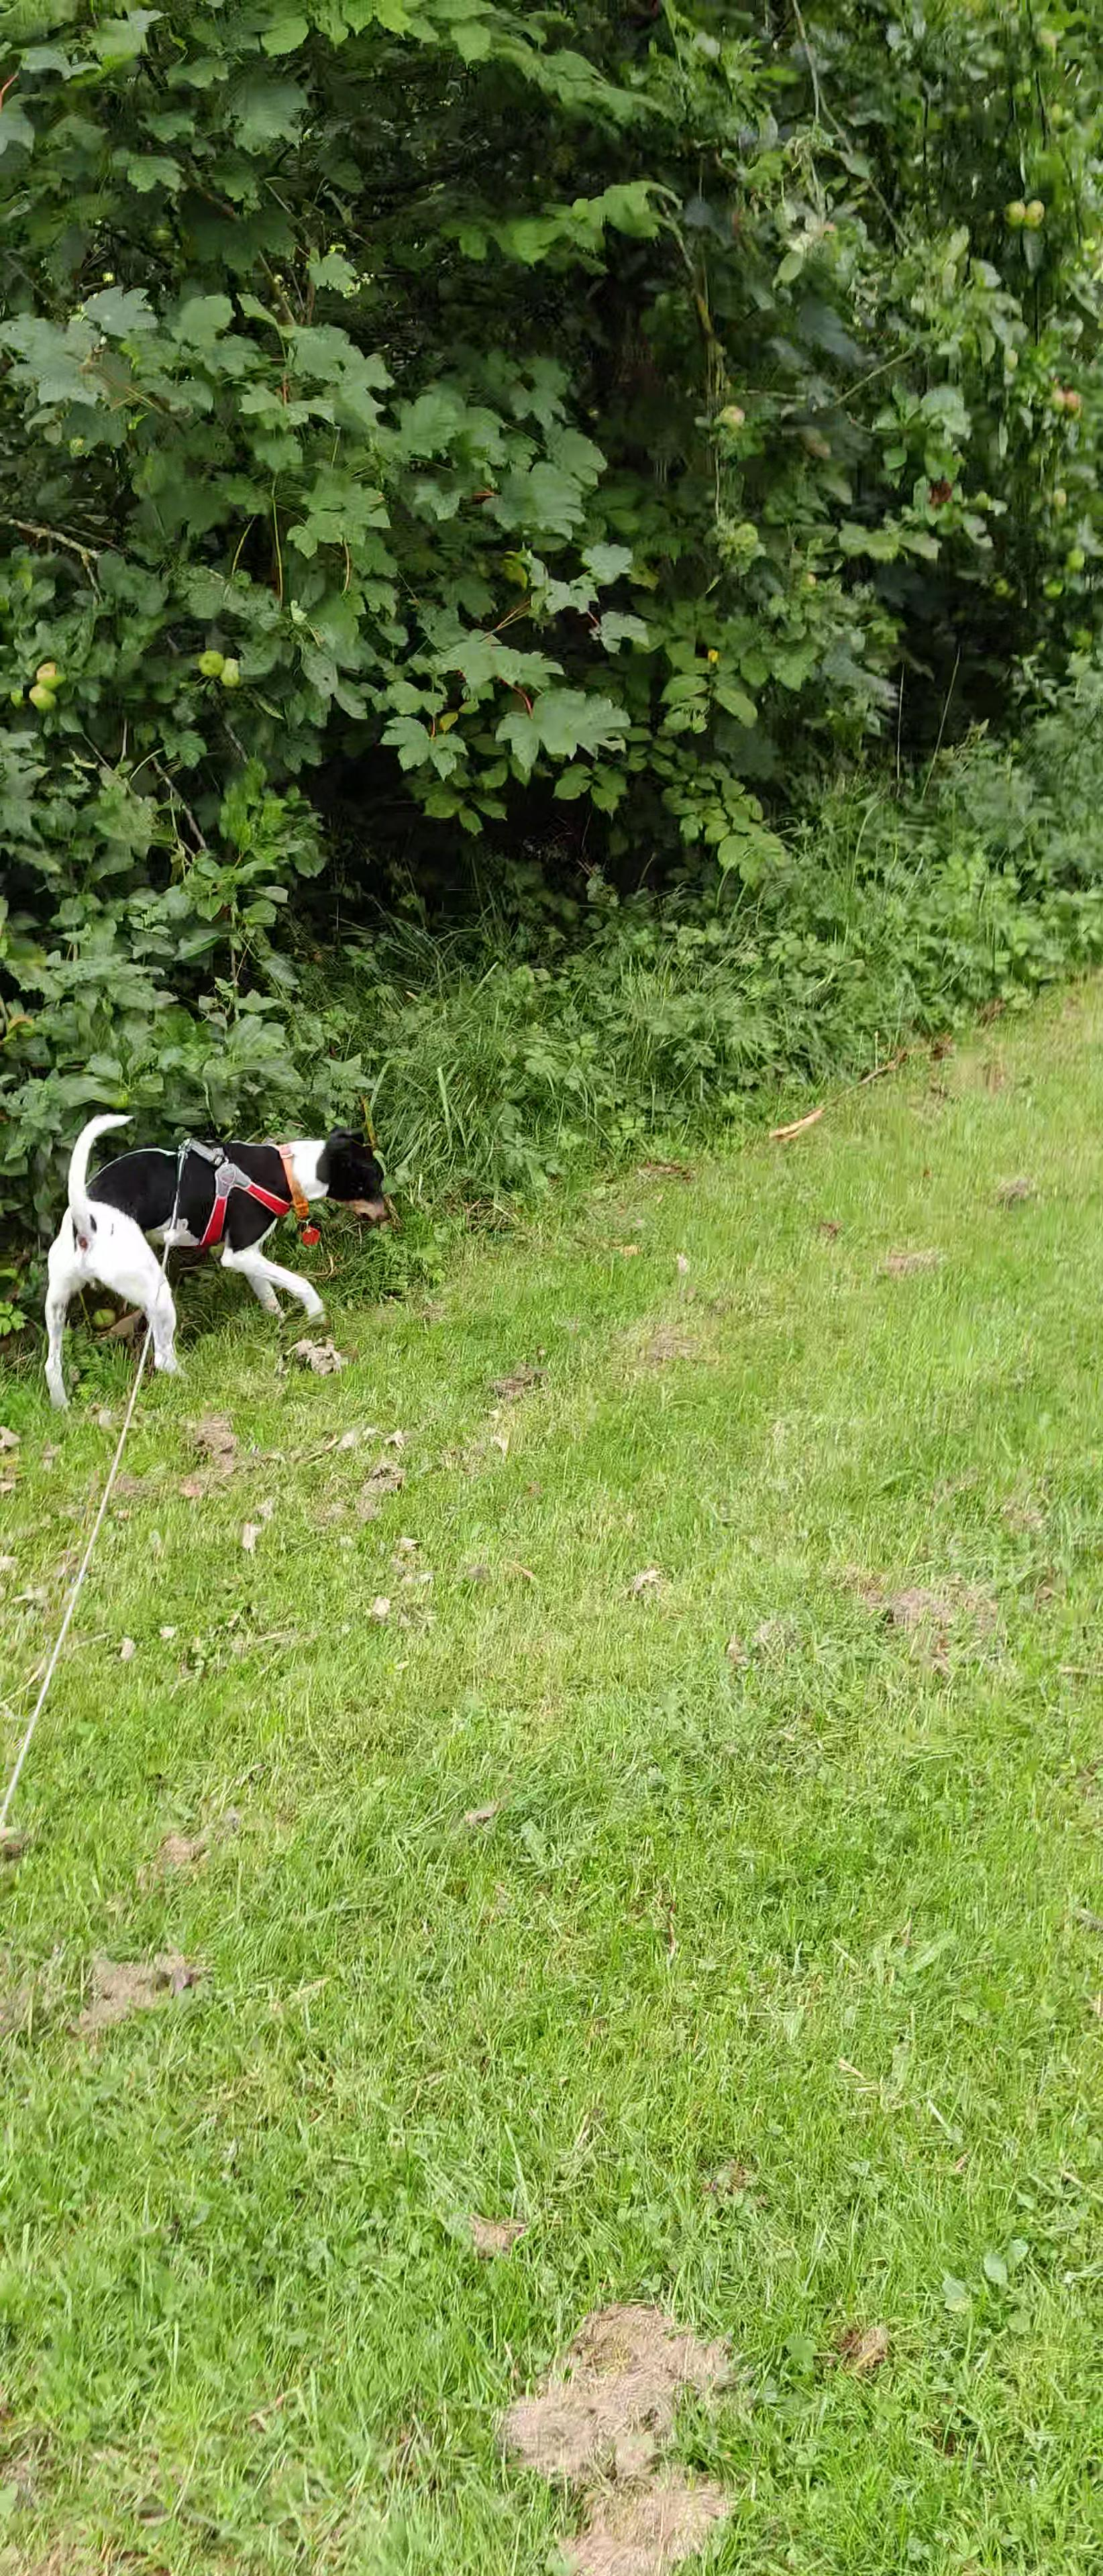Dog: (39, 1088, 399, 1419)
